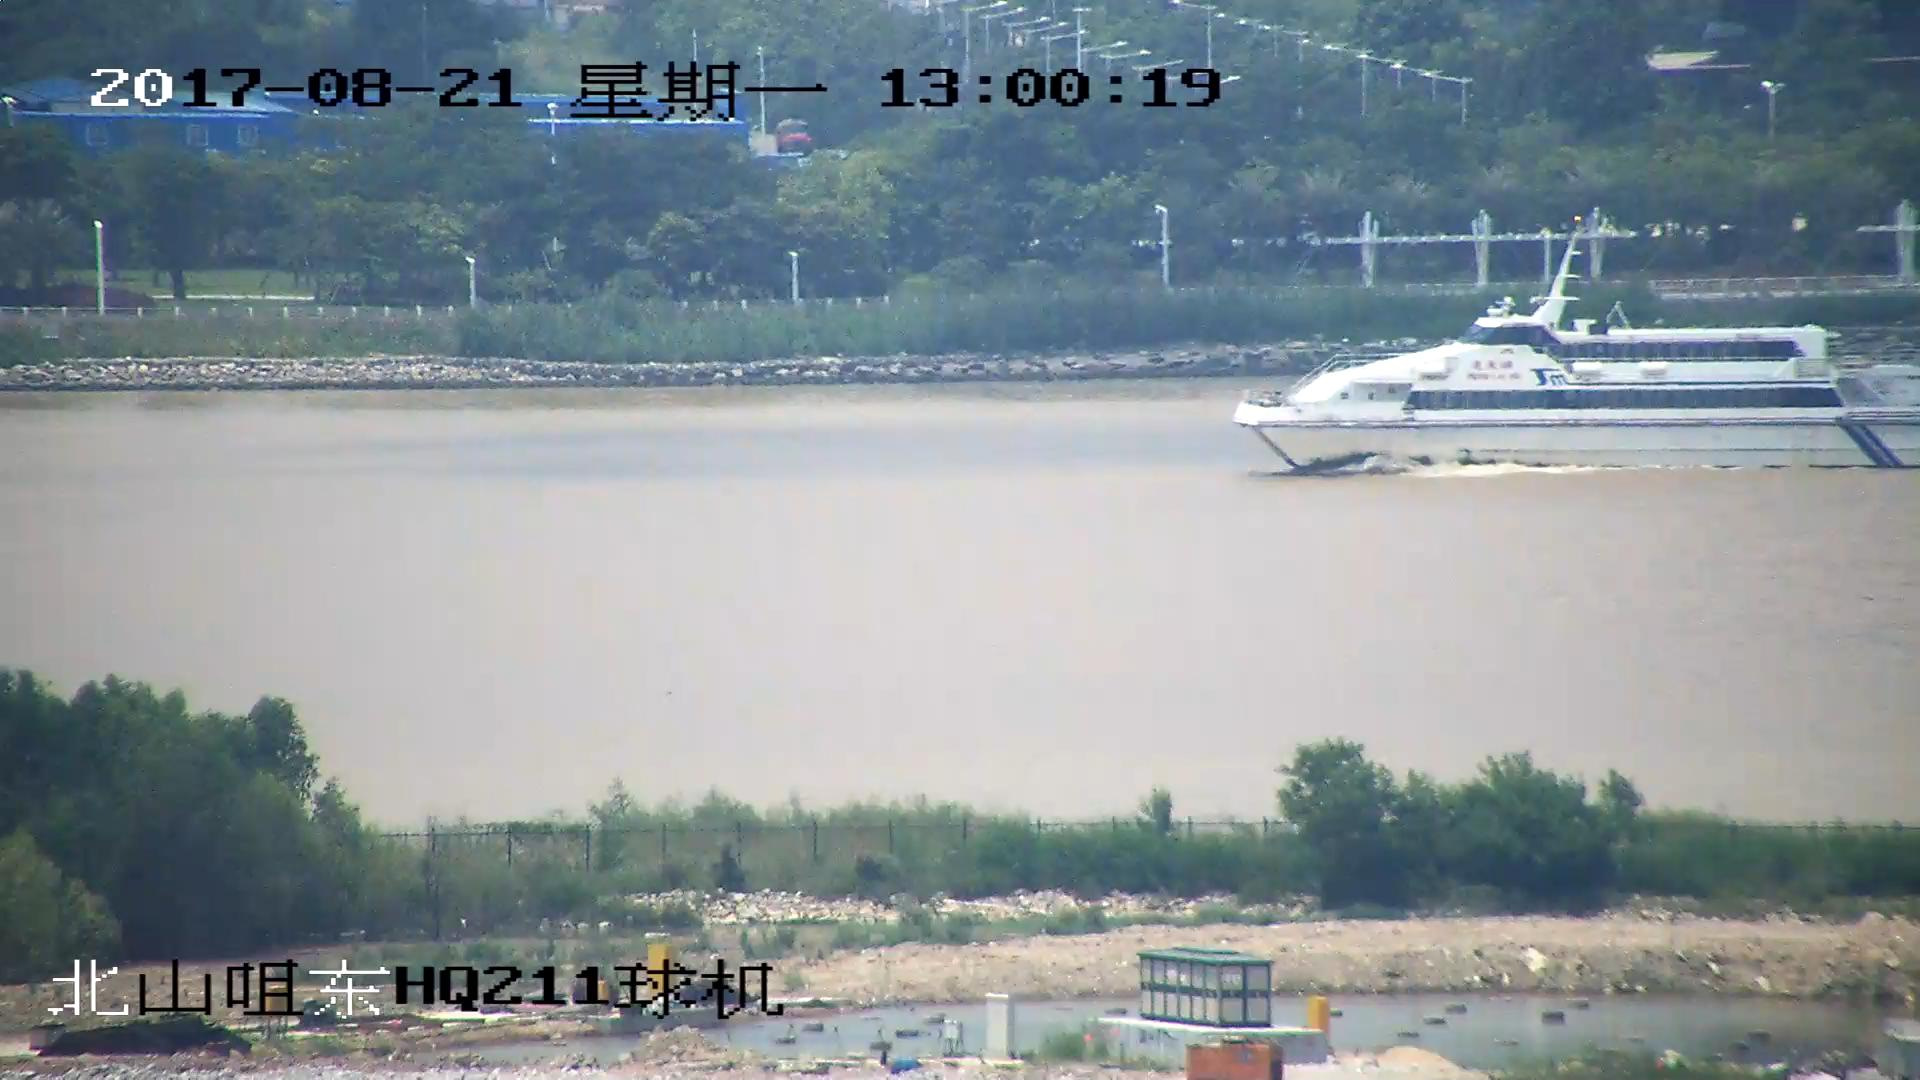passenger ship: (1232, 229, 1920, 476)
